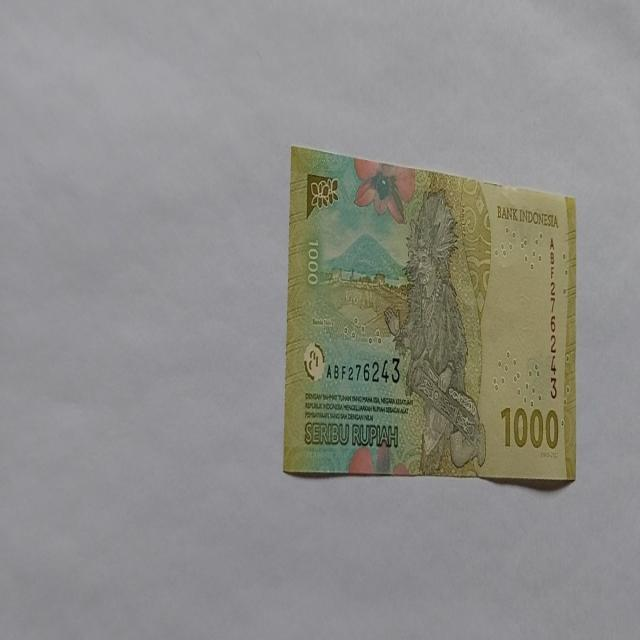seribu rupiah kertas: (282, 144, 578, 483)
